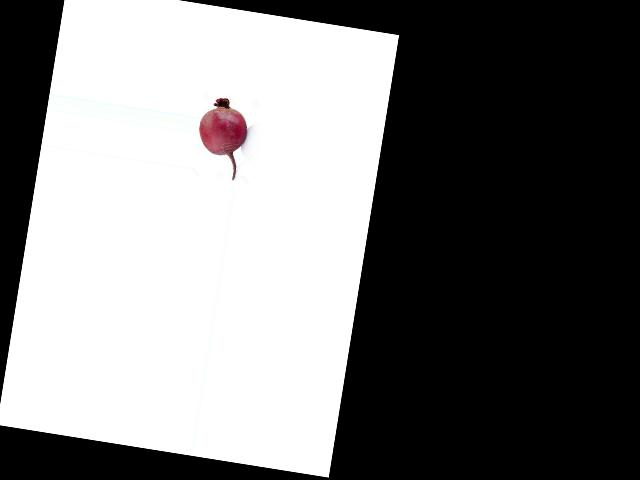beet: (192, 95, 251, 181)
